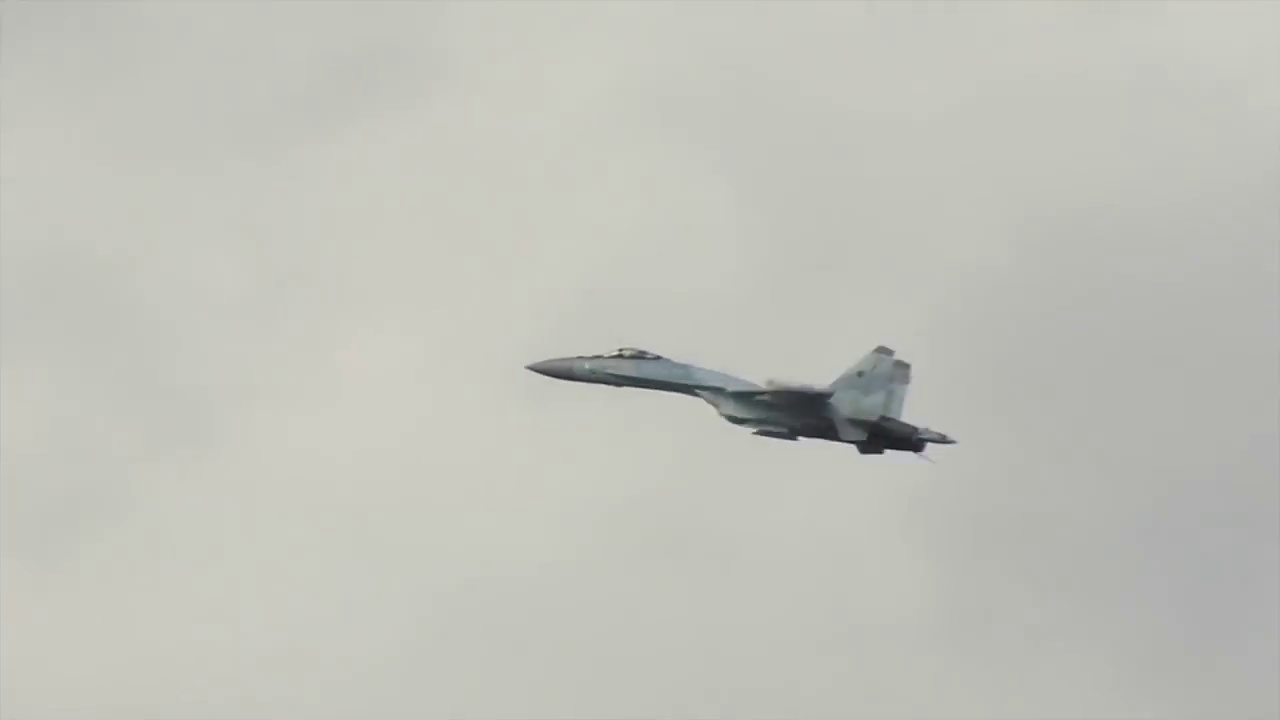Su35: (520, 327, 970, 462)
